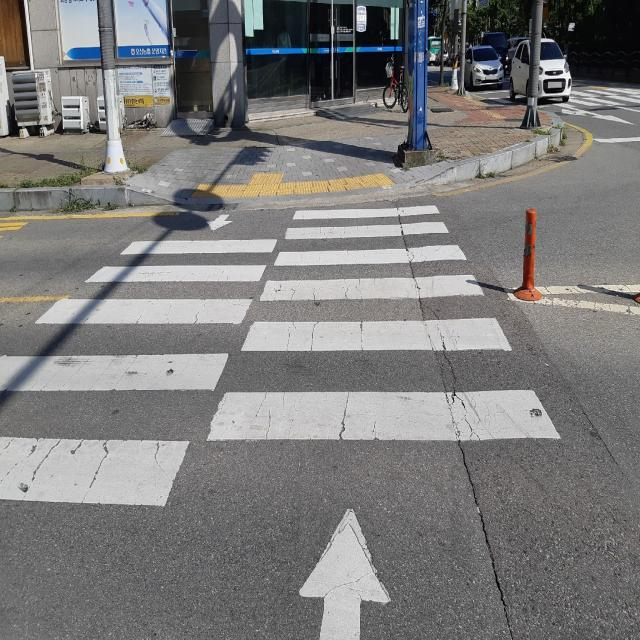횡단보도: (0, 203, 563, 640), (572, 96, 640, 111)
